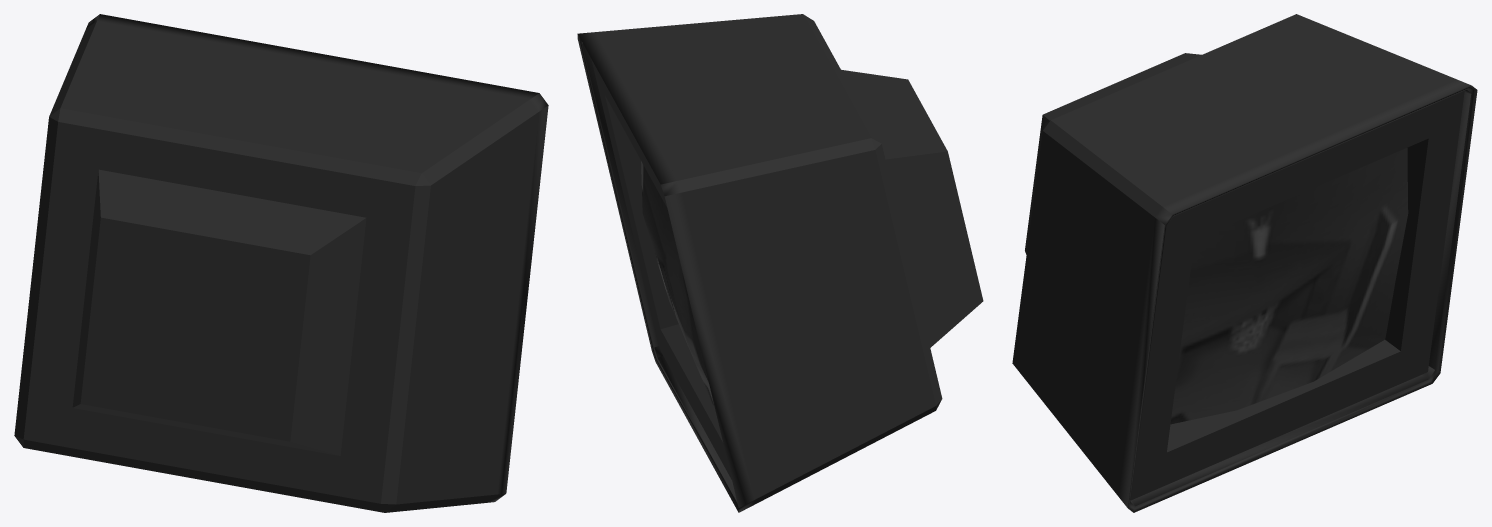
Rendered from Tele4.fbx.
The picture shows the model from 3 angles, left to right: view 1: azimuth 30°, elevation 25°; view 2: azimuth 150°, elevation 25°; view 3: azimuth 270°, elevation 25°; orthographic projection. The views are drawn at different scales.
Visible parts, largest first — view 1: Tele.003; view 2: Tele.003; view 3: Tele.003.
Boxes of the visible parts, x1,y1,x2,y2 form: Tele.003: (14,14,548,512); Tele.003: (577,14,983,512); Tele.003: (1012,14,1477,512).
Bounding box in the file's own units: 65.35 × 53.97 × 64.17.
